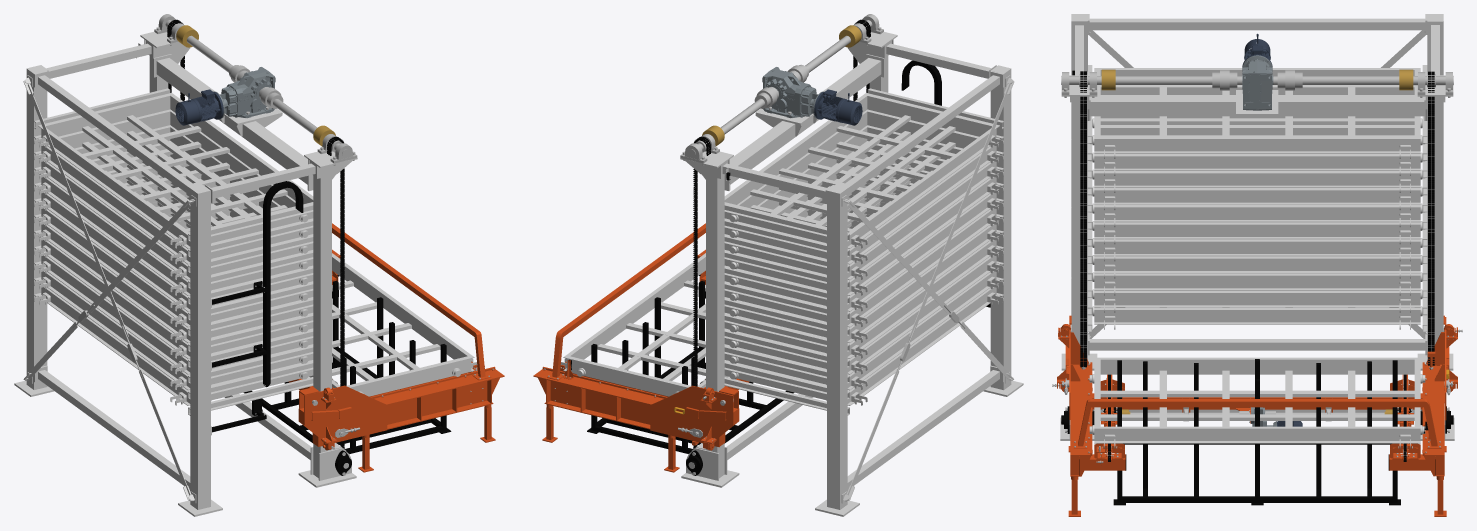
The model's file is MAGAZYN.glb.
3 views of the same model, side by side, from view 1: azimuth 30°, elevation 25°; view 2: azimuth 150°, elevation 25°; view 3: azimuth 270°, elevation 25° (orthographic). The views are drawn at different scales.
Parts seen in each view (by area): view 1: Cube, Cube.017, Cube.007, Cube.045, Cube.009, Cube.013, Cube.027, KACPEREK_HS_704_74,95_30038_B3:1, Cube.053, Plane.002, Cube.026, KACPEREK_T_132_S4_5,5_300_38:1 (+3 smaller); view 2: Cube, Cube.017, Cube.007, Cube.028, Cube.009, Cube.056, Cube.053, KACPEREK_HS_704_74,95_30038_B3:1, Plane.001, KACPEREK_T_132_S4_5,5_300_38:1, Cube.063, Cube.013 (+1 smaller); view 3: Cube, Cube.017, Cube.007, Cube.009, Cube.053, Plane.002, Plane.001, Cube.028, KACPEREK_HS_704_74,95_30038_B3:1, Cube.026, Cube.061, Cube.045 (+11 smaller).
Part boxes in pixels (x1,y1,x2,y2): Cube: [34, 93, 313, 405]; Cube.017: [14, 32, 357, 516]; Cube.007: [307, 253, 477, 396]; Cube.045: [298, 385, 387, 449]; Cube.009: [243, 280, 451, 453]; Cube.013: [263, 181, 303, 387]; Cube.027: [387, 378, 499, 424]; KACPEREK_HS_704_74,95_30038_B3:1: [213, 67, 275, 119]; Cube.053: [332, 223, 491, 380]; Plane.002: [327, 136, 344, 448]; Cube.026: [374, 369, 504, 405]; KACPEREK_T_132_S4_5,5_300_38:1: [175, 89, 221, 125]; Cube: [724, 93, 1003, 405]; Cube.017: [680, 32, 1023, 516]; Cube.007: [560, 253, 730, 396]; Cube.028: [533, 366, 667, 429]; Cube.009: [587, 281, 794, 453]; Cube.056: [650, 385, 739, 450]; Cube.053: [547, 223, 705, 380]; KACPEREK_HS_704_74,95_30038_B3:1: [762, 67, 824, 119]; Plane.001: [693, 136, 710, 448]; KACPEREK_T_132_S4_5,5_300_38:1: [816, 89, 862, 125]; Cube.063: [542, 404, 679, 472]; Cube.013: [901, 60, 941, 105]; Cube: [1090, 68, 1424, 329]; Cube.017: [1060, 14, 1454, 440]; Cube.007: [1089, 357, 1425, 448]; Cube.009: [1113, 359, 1400, 505]; Cube.053: [1073, 399, 1441, 448]; Plane.002: [1080, 71, 1086, 367]; Plane.001: [1428, 71, 1434, 365]; Cube.028: [1422, 362, 1444, 476]; KACPEREK_HS_704_74,95_30038_B3:1: [1242, 55, 1273, 110]; Cube.026: [1070, 364, 1092, 455]; Cube.061: [1092, 393, 1422, 422]; Cube.045: [1057, 315, 1090, 419].
Bounding box in the file's own units: 3.86 × 4.01 × 4.02.
